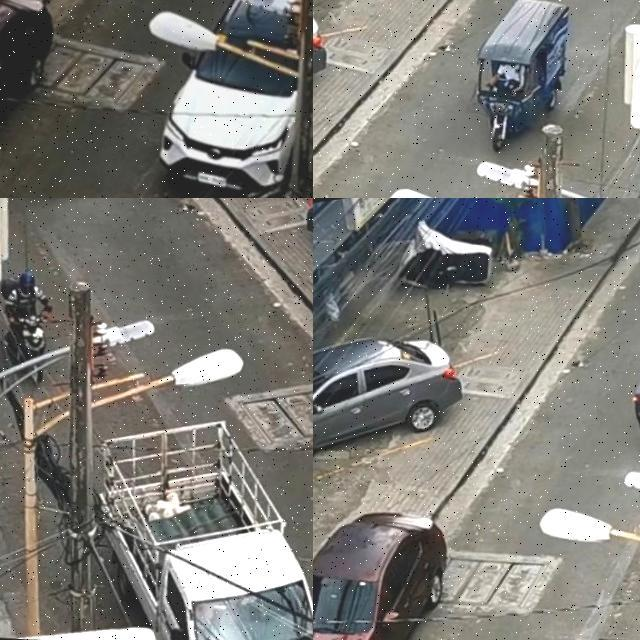Others: (462, 0, 588, 164)
